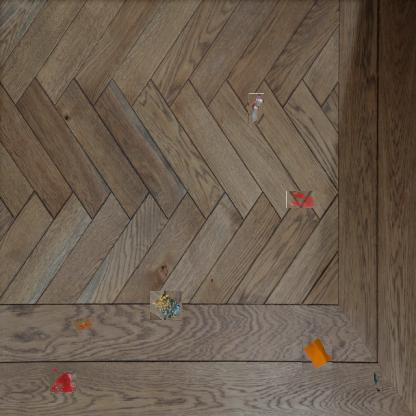dirty: (302, 336, 332, 370), (151, 289, 182, 320), (70, 315, 96, 335), (248, 93, 264, 124), (375, 373, 382, 393)
liquid: (52, 369, 76, 393), (286, 191, 315, 209)
